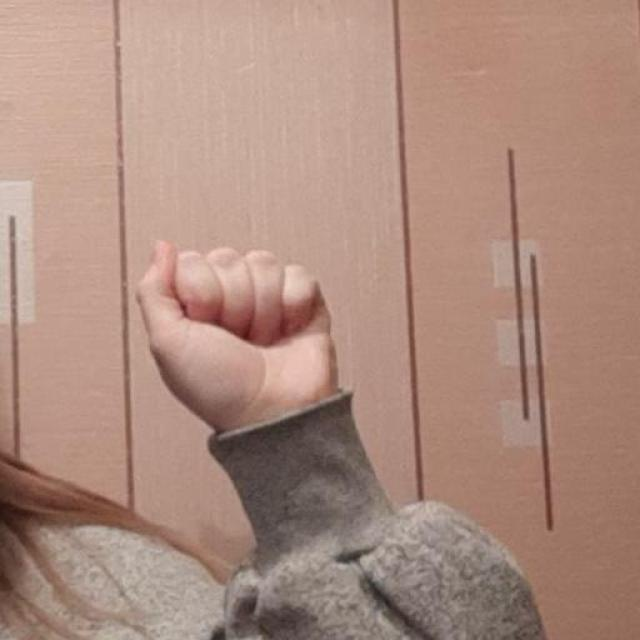hand: (134, 237, 340, 433)
